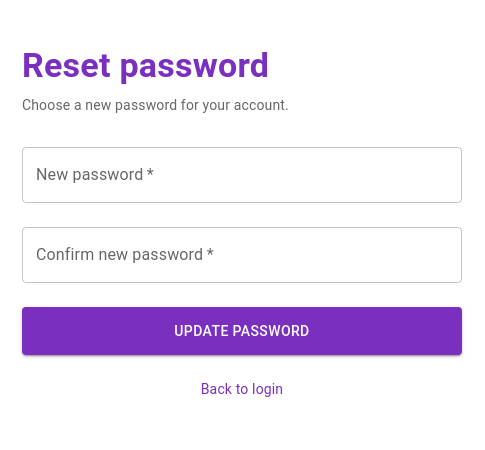
Test: ResetPassword › shows error when passwords do not match
In the password field labelled "New password *": (242, 175) [22,147,462,203], type "password123"
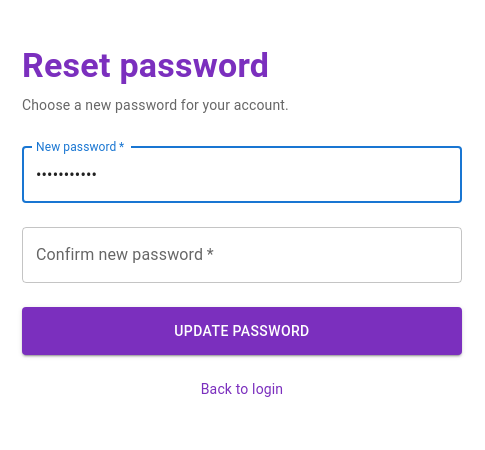
In the password field labelled "Confirm new password *": (242, 255) [22,227,462,283], type "different"
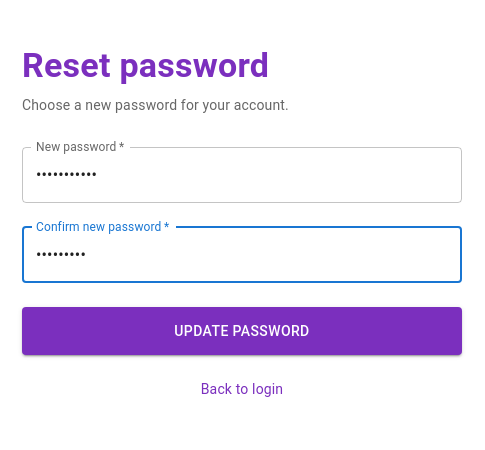
Click the button "Update password": (242, 331) [22,307,462,355]
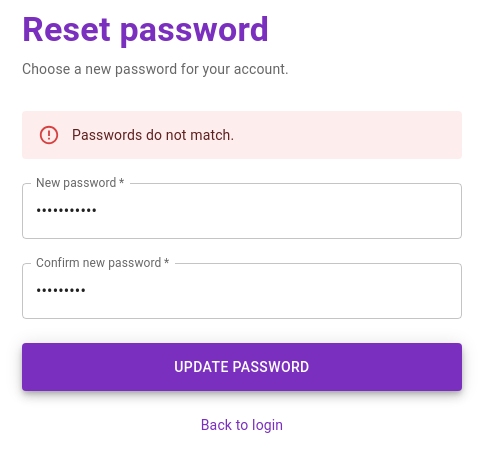
Expected: the message shows "do not match", [72,127,234,143]
